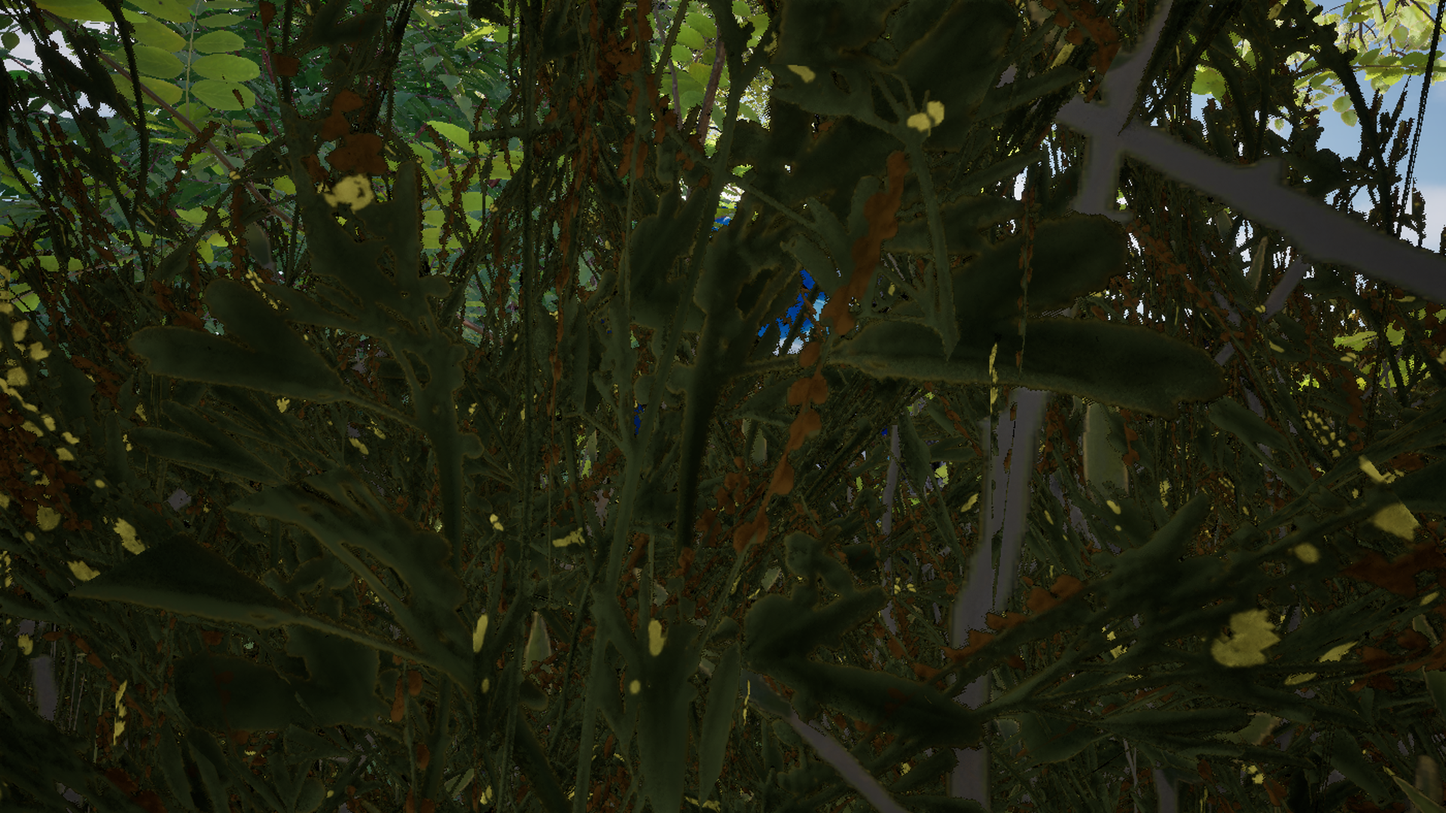Piplup: (283, 0, 978, 813)
